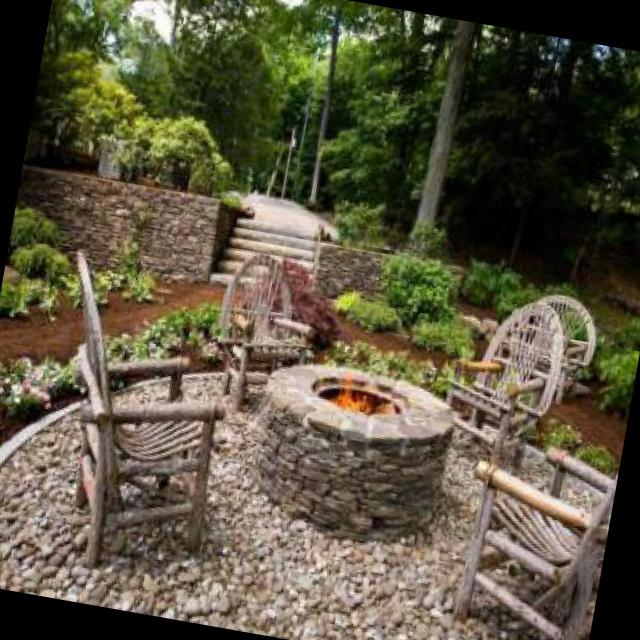fire: (328, 356, 384, 424)
